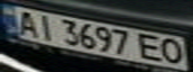3: (54, 17, 81, 47)
6: (75, 21, 96, 51)
7: (112, 27, 136, 56)
9: (93, 24, 115, 53)
A: (12, 8, 42, 37)
E: (136, 32, 166, 62)
I: (33, 12, 60, 42)
O: (157, 37, 190, 64)
